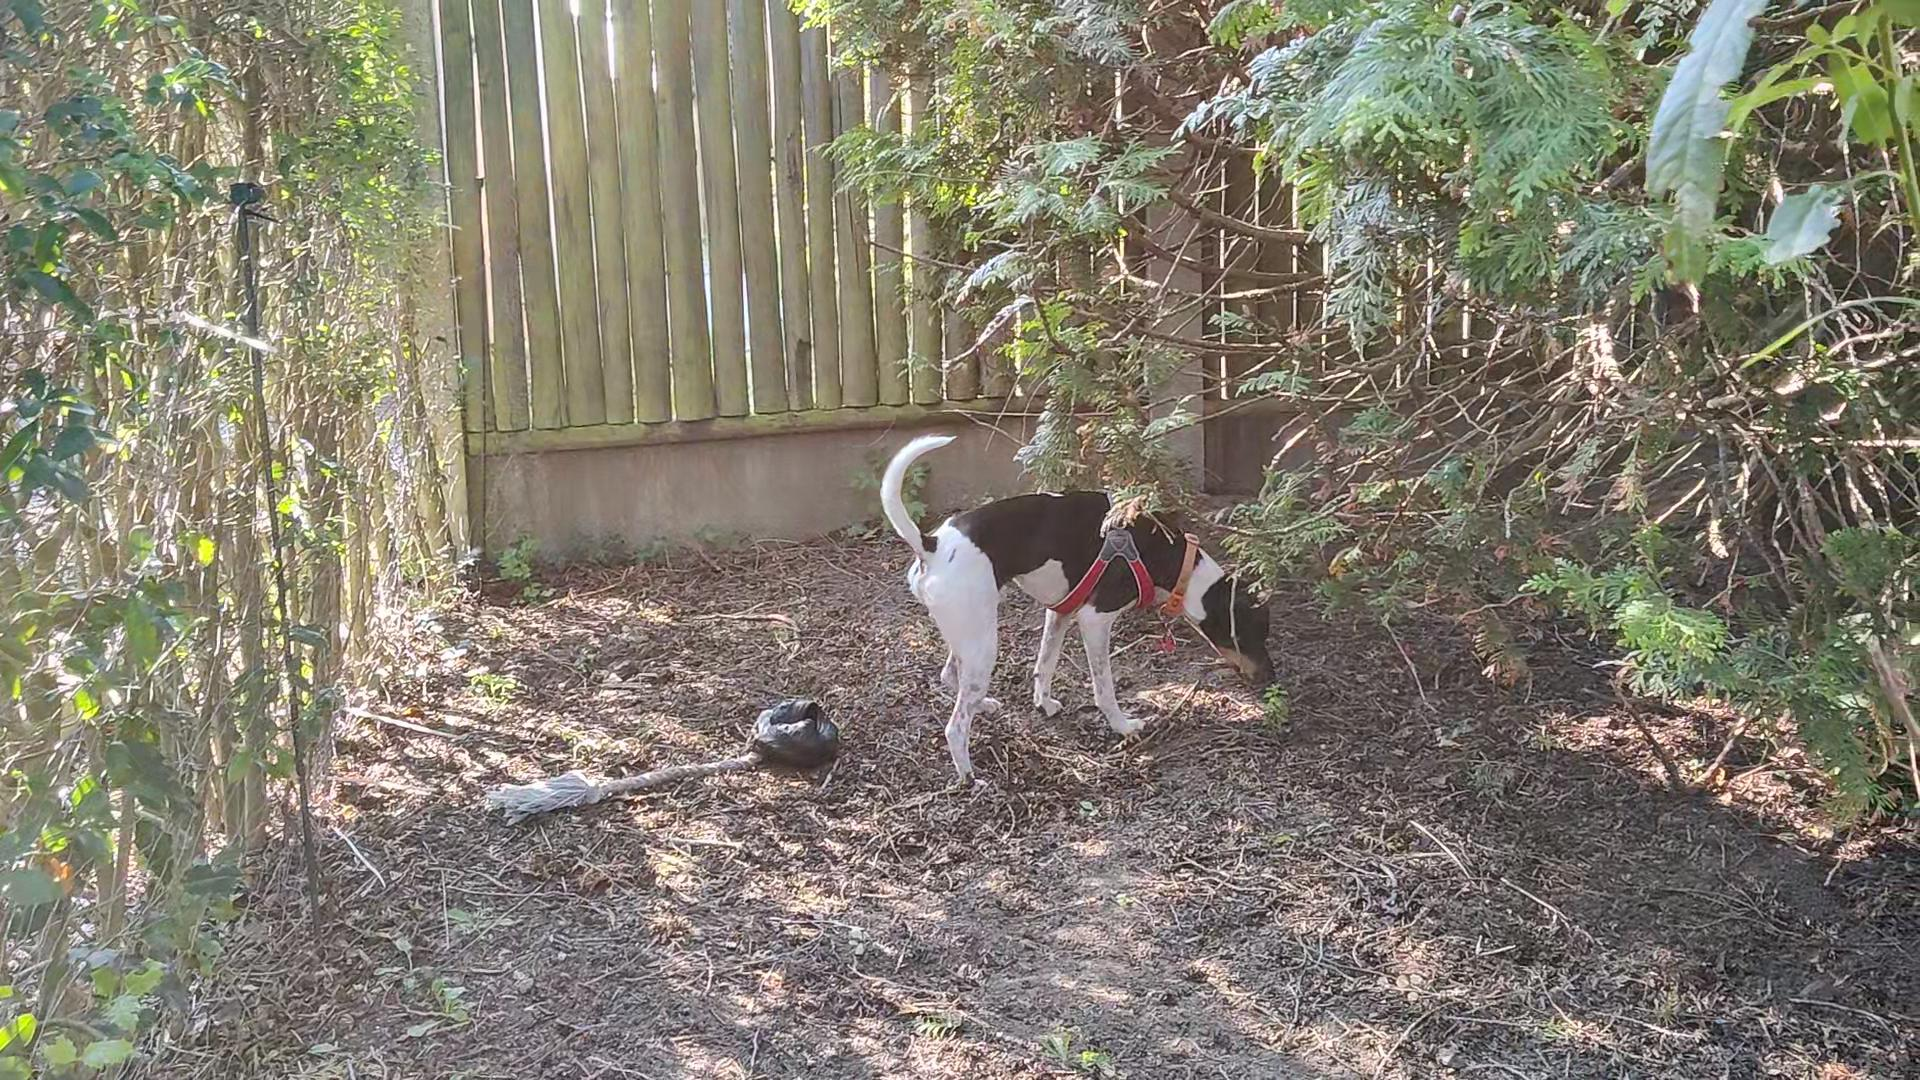Dog: (865, 423, 1298, 799)
